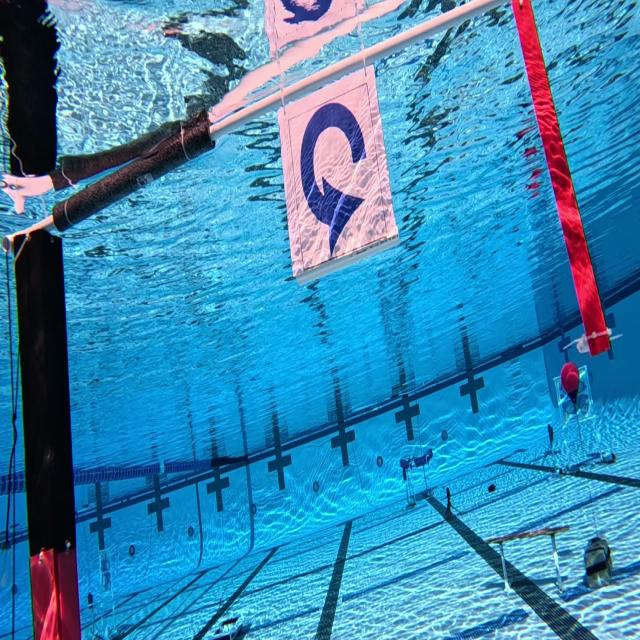blue_side: (278, 62, 394, 301)
